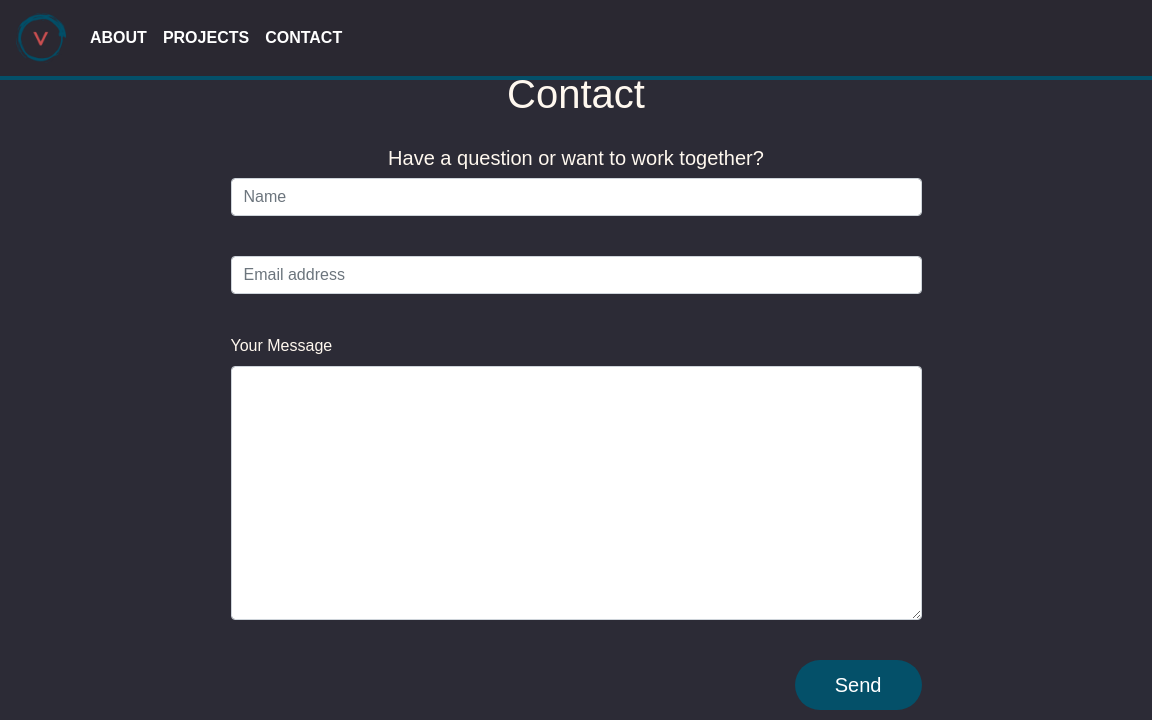
Test case: Contact Form › user must fill in name
(page scrolled)
Click the button with id "send" at [859, 685], box 795,660 -> 922,710
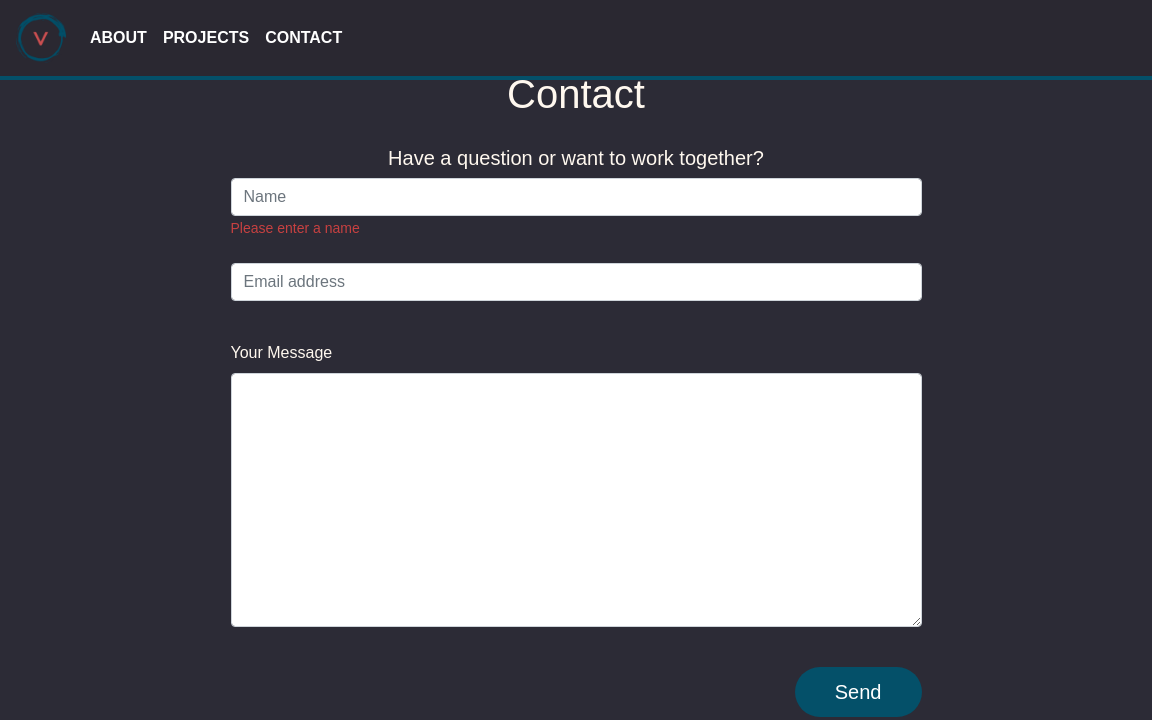
Check: the text "Please enter a name" is shown, box 230,218 -> 360,239
